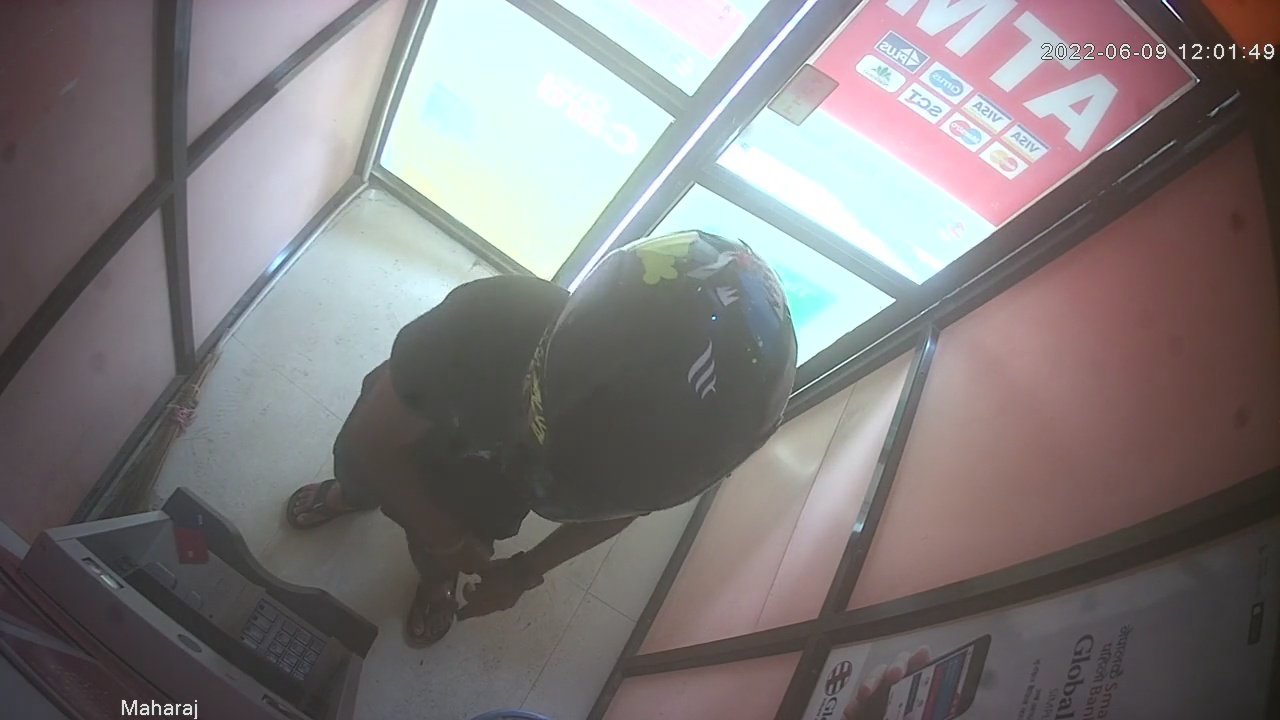helmet: (510, 228, 797, 524)
person: (285, 227, 799, 651)
